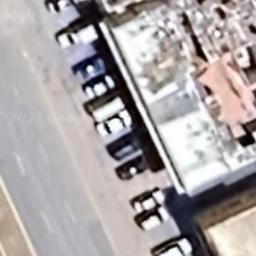SUV: (136, 204, 168, 232), (153, 235, 192, 256)
sedan: (126, 186, 166, 216), (96, 109, 132, 137), (108, 132, 144, 160), (80, 76, 116, 100), (116, 155, 148, 182)
truck: (84, 93, 132, 124), (57, 19, 99, 52)
unknown: (69, 54, 111, 82)
